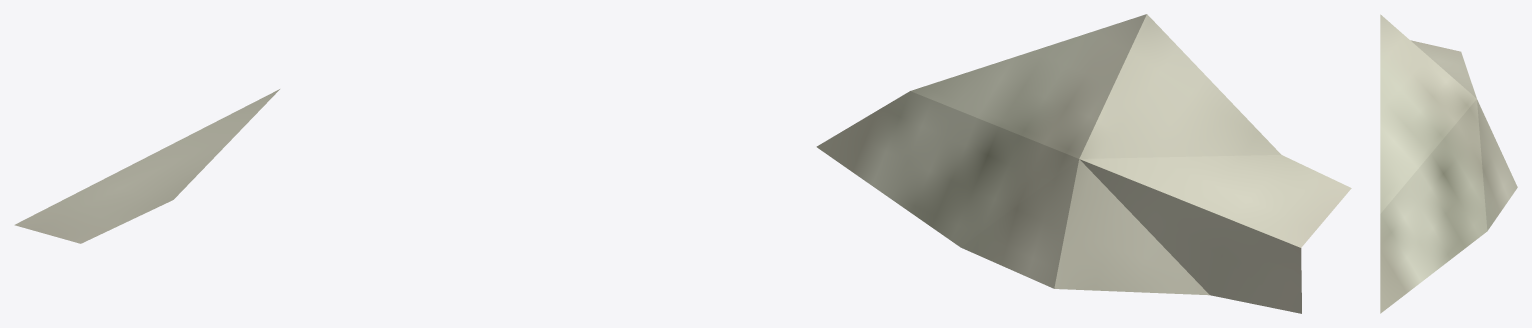
3 renders of one model, left to right at view 1: azimuth 30°, elevation 25°; view 2: azimuth 150°, elevation 25°; view 3: azimuth 270°, elevation 25°, orthographic. The views are drawn at different scales.
Size of the model in its own units: 0.1817 by 0.0692 by 0.0505.
Materials: 1 (1 with a texture image).
